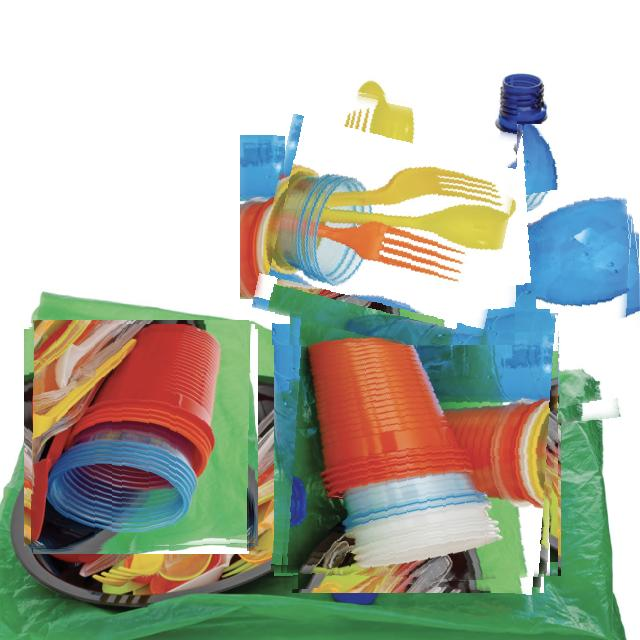recyclable: (362, 124, 640, 437), (277, 309, 558, 590), (263, 90, 517, 345), (27, 324, 255, 551)
